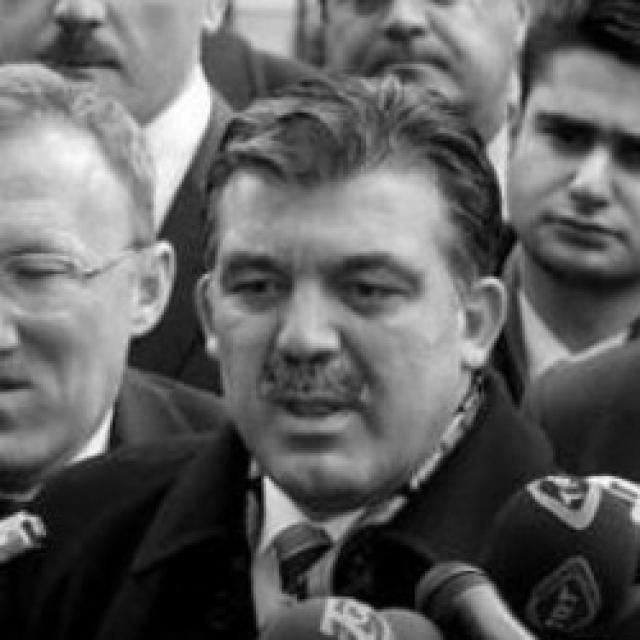real: (207, 112, 477, 508), (0, 81, 136, 475), (512, 41, 640, 284), (228, 251, 414, 323), (0, 242, 108, 314), (534, 108, 640, 176)
